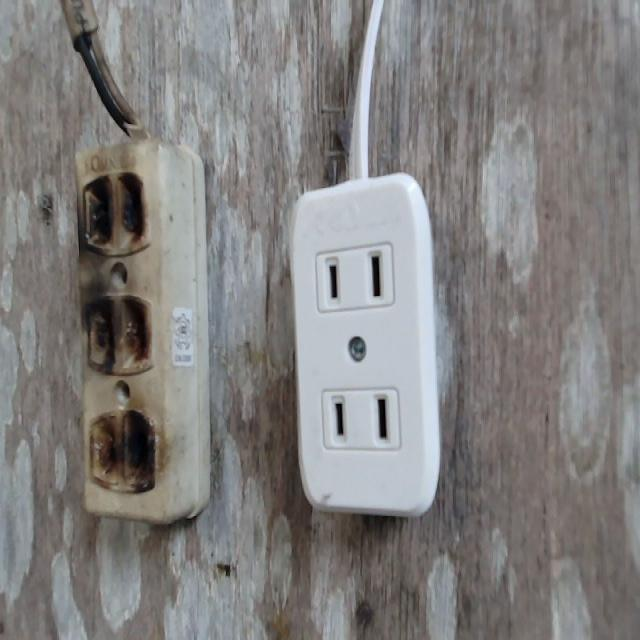-: (78, 167, 159, 500)
